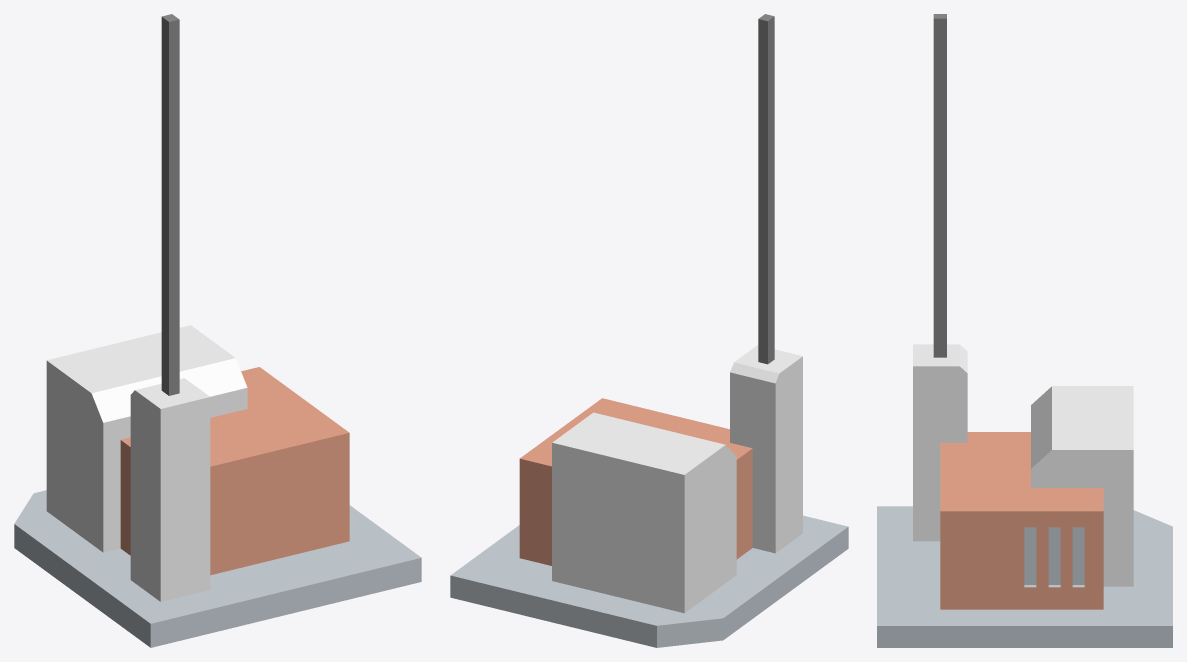
The model's file is station.glb.
3 renders of one model, left to right at view 1: azimuth 30°, elevation 25°; view 2: azimuth 150°, elevation 25°; view 3: azimuth 270°, elevation 25°, orthographic. The views are drawn at different scales.
Parts seen in each view (by area): view 1: station; view 2: station; view 3: station.
Part boxes in pixels (x1,y1,x2,y2): station: (14,14,421,647); station: (450,14,848,647); station: (877,14,1172,647).
Bounding box in the file's own units: 4.7 × 9.8 × 4.9.
